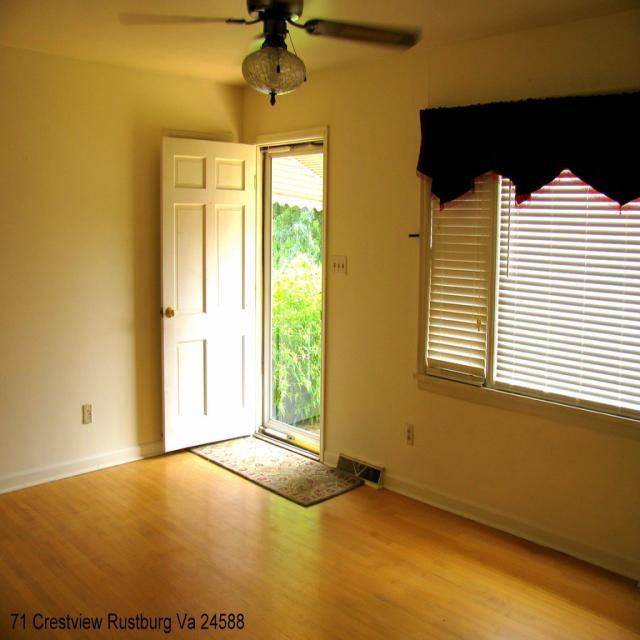fan_on: (116, 0, 423, 54)
